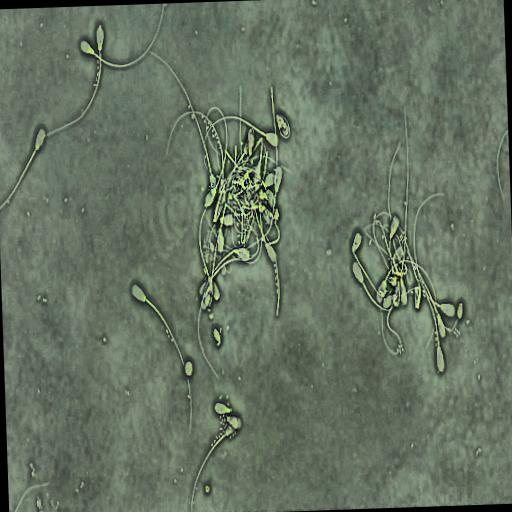coiled-tail: (275, 113, 290, 138), (276, 113, 289, 136)
dirt-particles: (211, 325, 222, 347), (183, 358, 194, 378), (455, 299, 464, 322), (203, 483, 210, 495)
folded-tail: (197, 249, 235, 376), (374, 211, 421, 308), (352, 249, 394, 296), (204, 106, 227, 157), (215, 157, 225, 187)
loose-head: (225, 414, 243, 432), (212, 399, 232, 415)
loose-tail: (496, 127, 508, 203)
normal: (128, 280, 193, 438), (150, 51, 218, 194), (40, 18, 106, 144), (196, 246, 251, 381), (75, 3, 167, 73), (413, 193, 444, 372), (166, 110, 225, 203), (375, 260, 436, 348), (373, 208, 422, 313), (189, 415, 239, 512), (0, 120, 49, 215), (201, 112, 280, 169), (349, 229, 392, 299), (348, 257, 396, 315), (400, 107, 408, 304), (205, 106, 227, 157), (204, 157, 225, 207), (274, 110, 292, 140)
